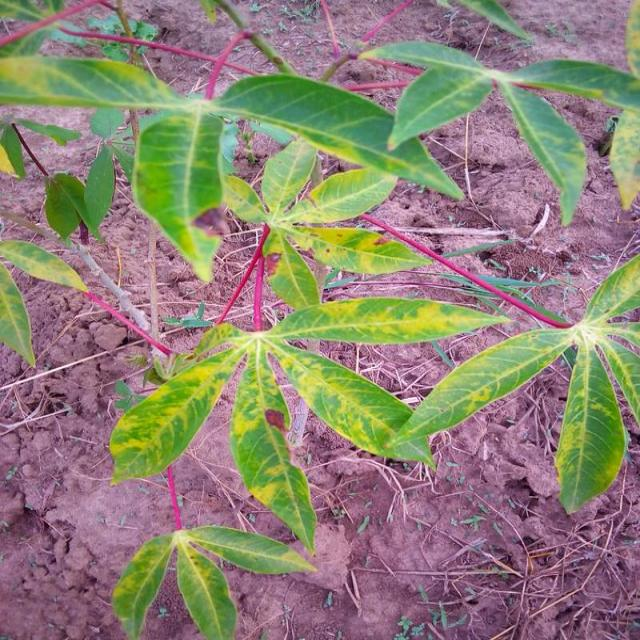cassava leaf: (215, 70, 466, 202), (110, 322, 248, 487), (230, 342, 318, 555), (131, 99, 227, 283), (554, 337, 629, 515)
